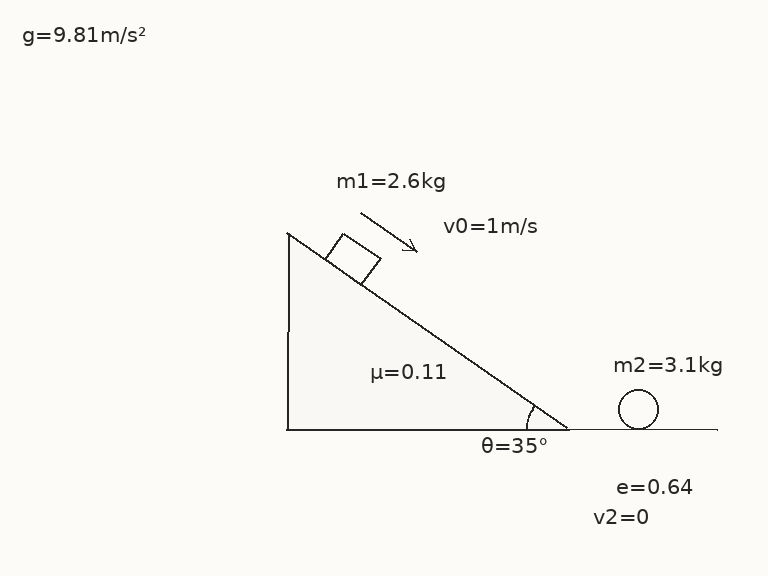ball: (616, 387, 660, 431)
block: (323, 231, 381, 287)
ramp: (285, 231, 569, 431)
